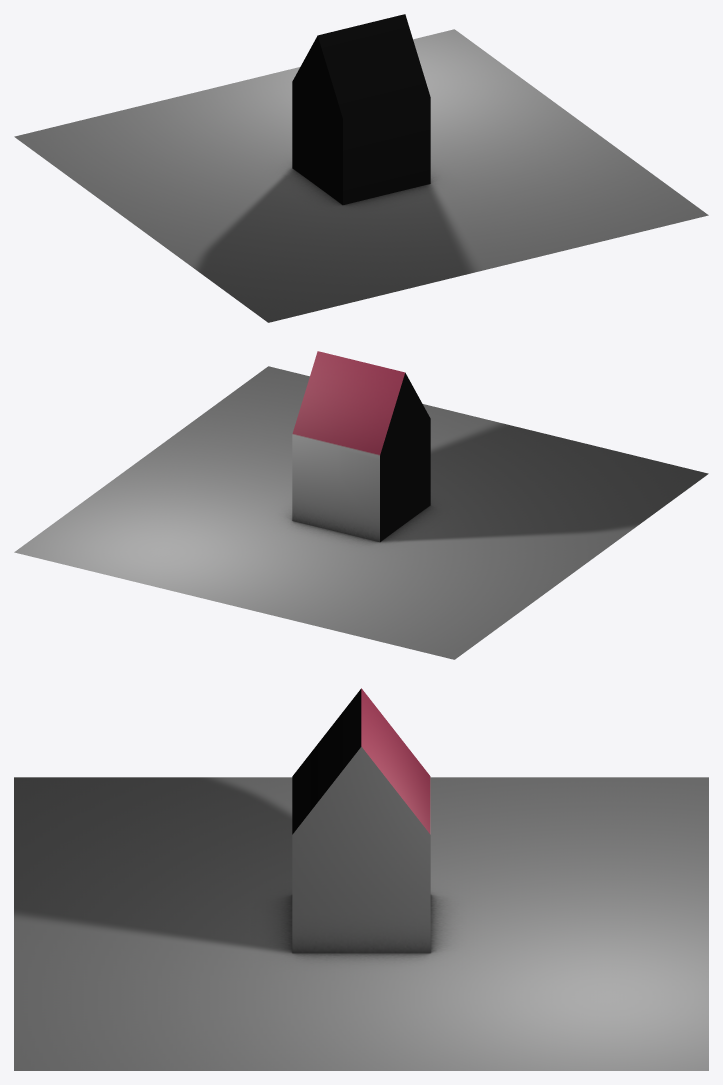
The model's file is maison_V2.fbx.
The picture shows the model from 3 angles, top to bottom: view 1: azimuth 30°, elevation 25°; view 2: azimuth 150°, elevation 25°; view 3: azimuth 270°, elevation 25°; orthographic projection. The views are drawn at different scales.
Visible parts, largest first — view 1: Maison; view 2: Maison; view 3: Maison.
Part boxes in pixels (x1,y1,x2,y2): Maison: (14, 14, 708, 322); Maison: (14, 351, 708, 659); Maison: (14, 688, 708, 1070).
Size of the model in its own units: 1005 by 341 by 1005.
1 material, 1 textured.
